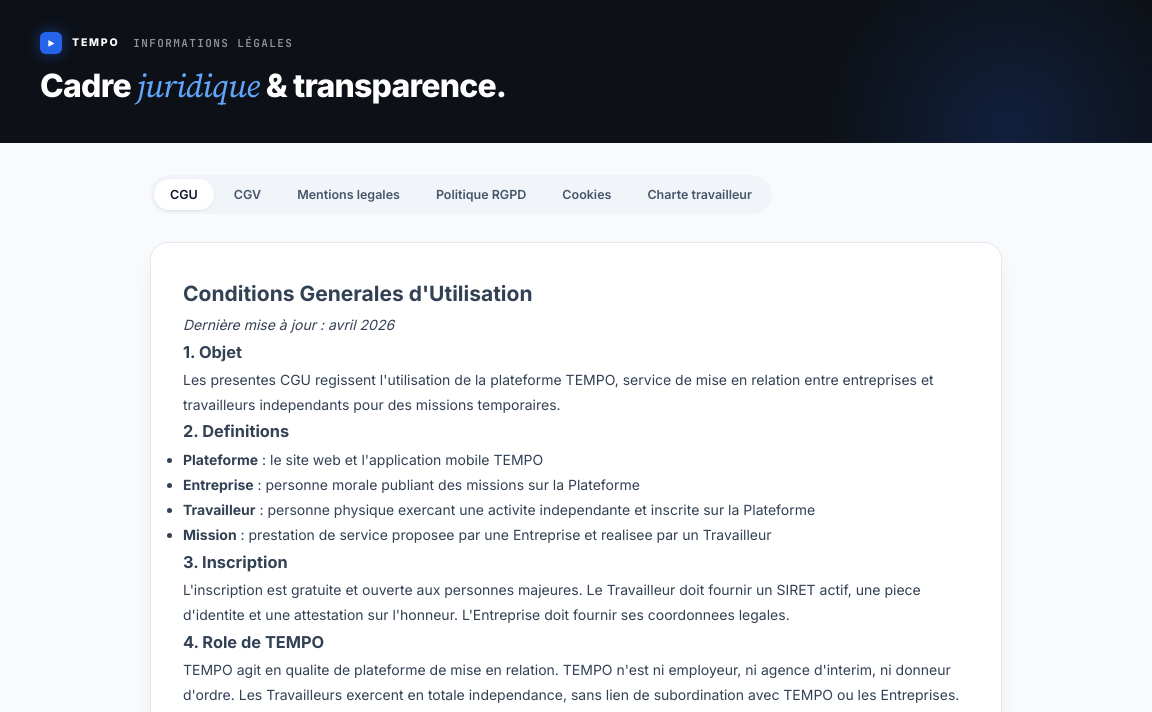
Test: Legal page › switches to Politique RGPD tab on click
Click the button "Politique RGPD" at (481, 194), box top-left (420, 179), bottom-right (542, 210)
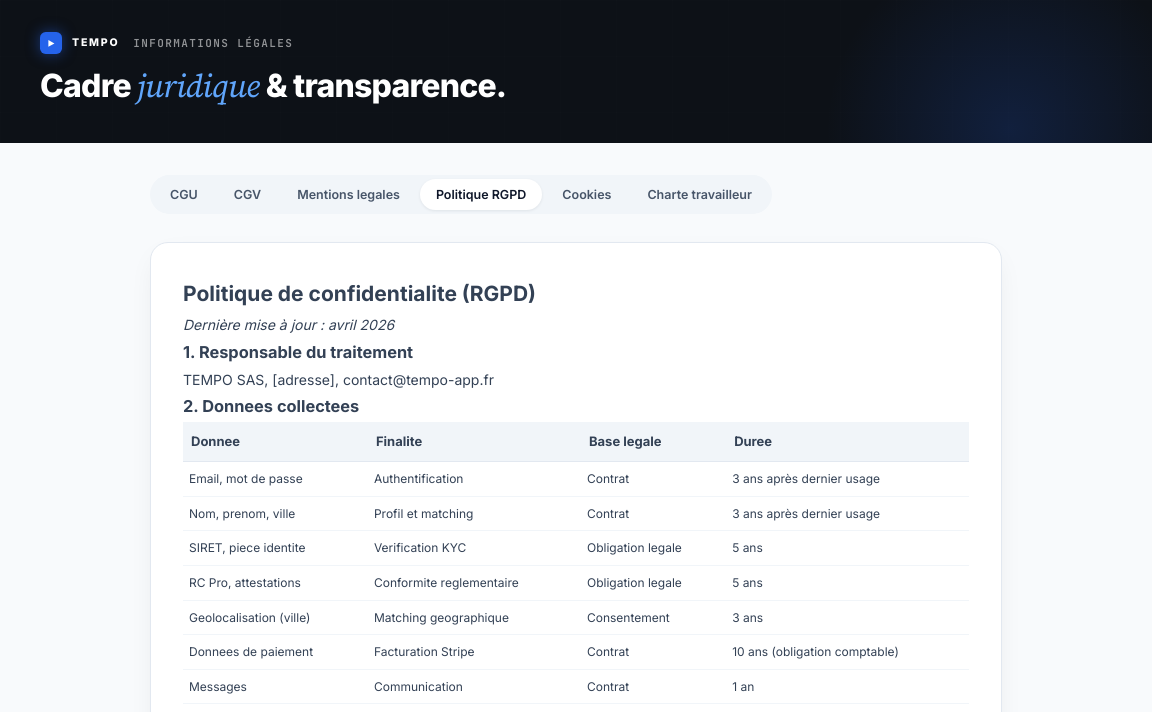
Check: the heading "Politique de confidentialite (RGPD)" is shown, box top-left (183, 281), bottom-right (536, 306)
